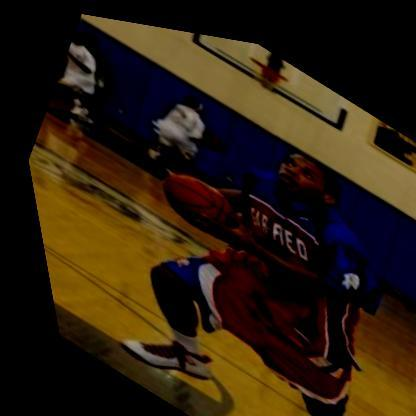basketball: (140, 149, 242, 245)
